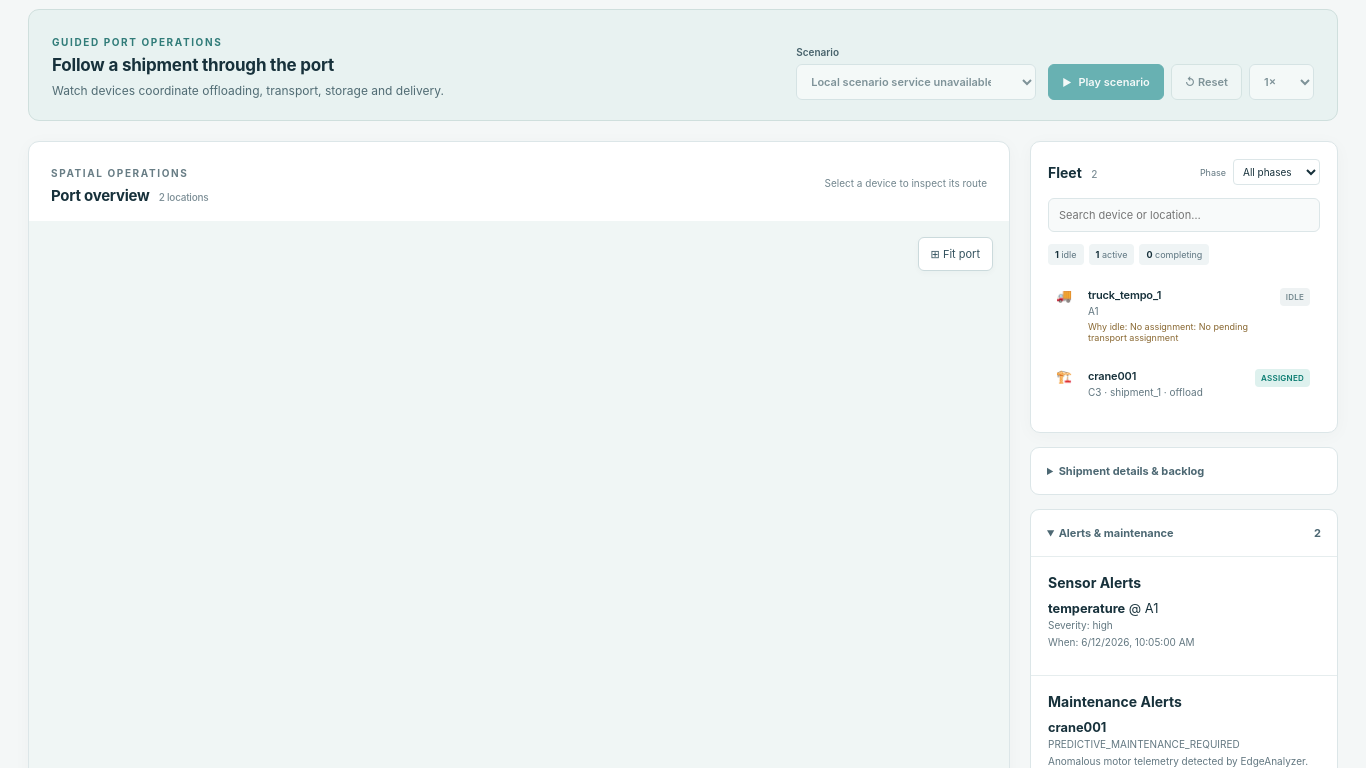
device modal shows contract-aligned fields without N/A for zero progress
The width and height of the screenshot is (1366, 768).
(page scrolled)
What coordinates should you click on to do the following:
click the button with aria-label "Device crane001"
I would click on:
 (1183, 385)
Its box is [1048,358,1318,411].
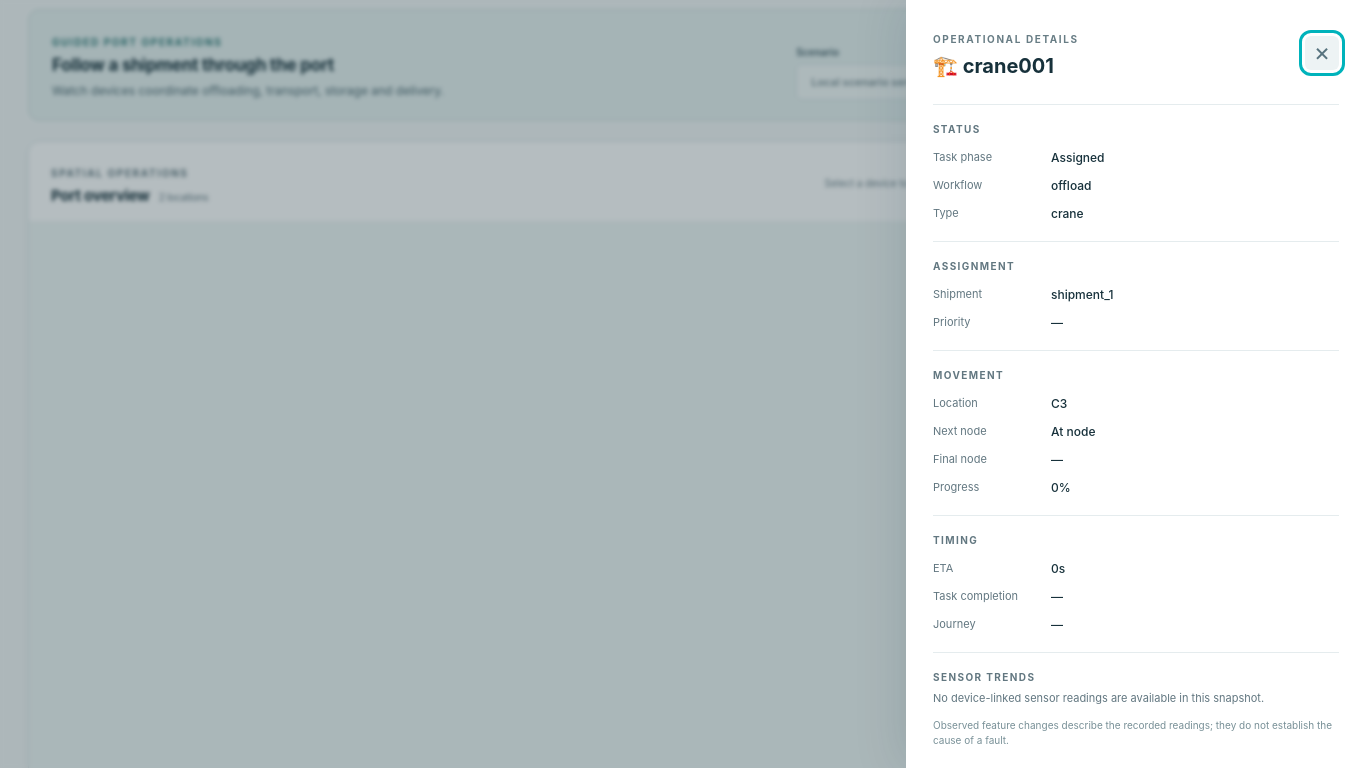
Expected: the dialog named "Device details" does not show "N/A", [906,0,1365,767]
Expected: the dialog named "Device details" is shown, [906,0,1365,767]
Expected: the dialog named "Device details" shows "offload", [1051,178,1092,193]
